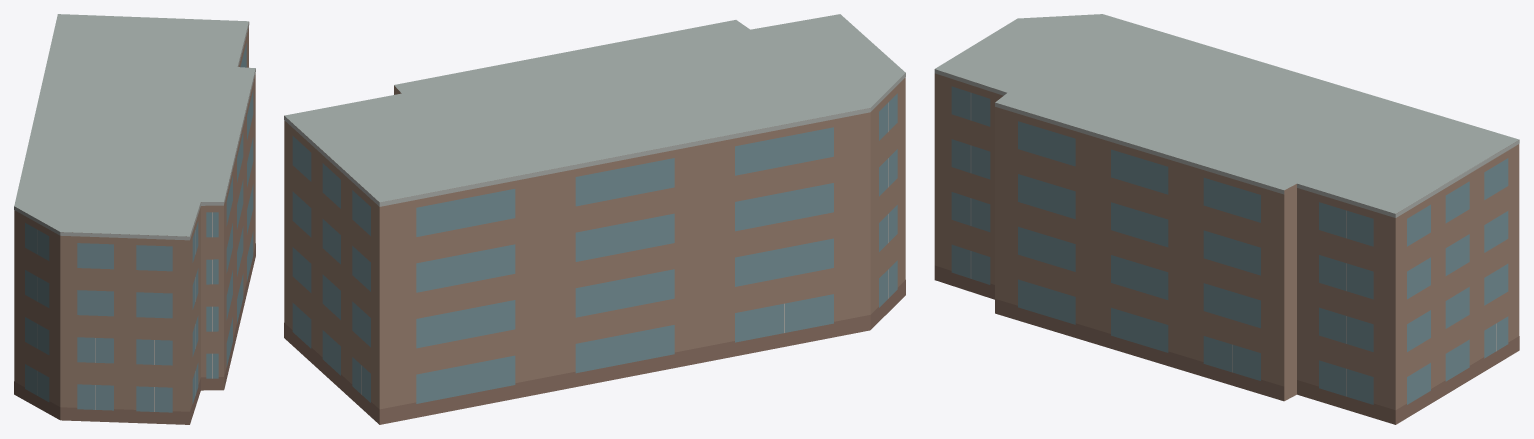
File: survey-upis-32667573.glb
The picture shows the model from 3 angles, left to right: view 1: azimuth 30°, elevation 25°; view 2: azimuth 150°, elevation 25°; view 3: azimuth 270°, elevation 25°; orthographic projection. The views are drawn at different scales.
Parts seen in each view (by area): view 1: survey-upis-32667573.tmp; view 2: survey-upis-32667573.tmp; view 3: survey-upis-32667573.tmp.
Part boxes in pixels (x1,y1,x2,y2): survey-upis-32667573.tmp: (14,14,255,424); survey-upis-32667573.tmp: (284,14,905,424); survey-upis-32667573.tmp: (934,14,1519,424).
Size of the model in its own units: 24.8 by 12.2 by 30.66.
